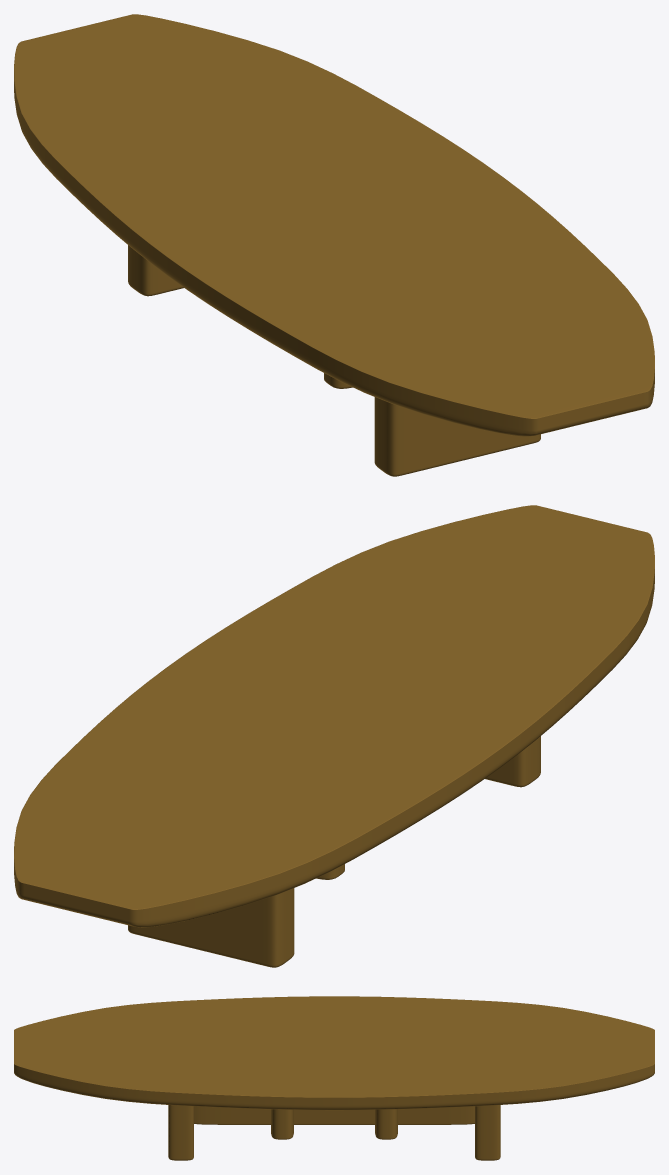
Rendered from ConferenceTable.fbx.
3 views of the same model, one above another, from view 1: azimuth 30°, elevation 25°; view 2: azimuth 150°, elevation 25°; view 3: azimuth 270°, elevation 25° (orthographic). The views are drawn at different scales.
Visible parts, largest first — view 1: ConferenceTable; view 2: ConferenceTable; view 3: ConferenceTable.
Part boxes in pixels (x1,y1,x2,y2): ConferenceTable: (14,14,654,476); ConferenceTable: (14,505,654,967); ConferenceTable: (14,996,654,1160).
Bounding box in the file's own units: 30.69 × 12.93 × 82.04.
